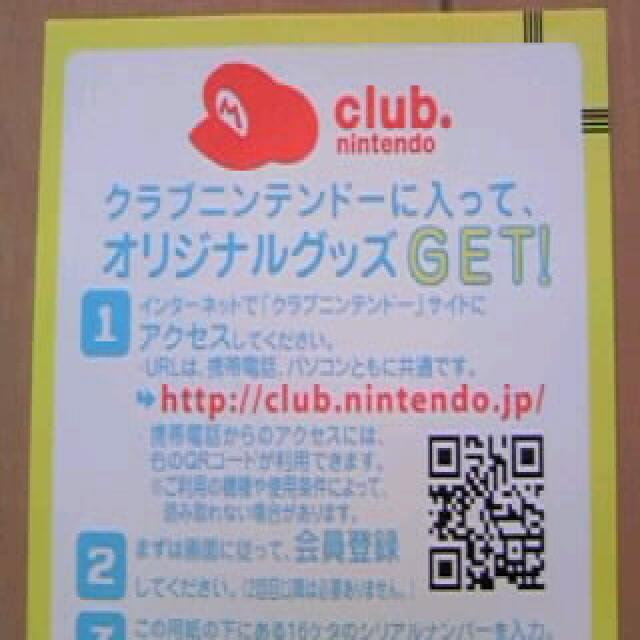qr_code: (428, 434, 545, 591)
